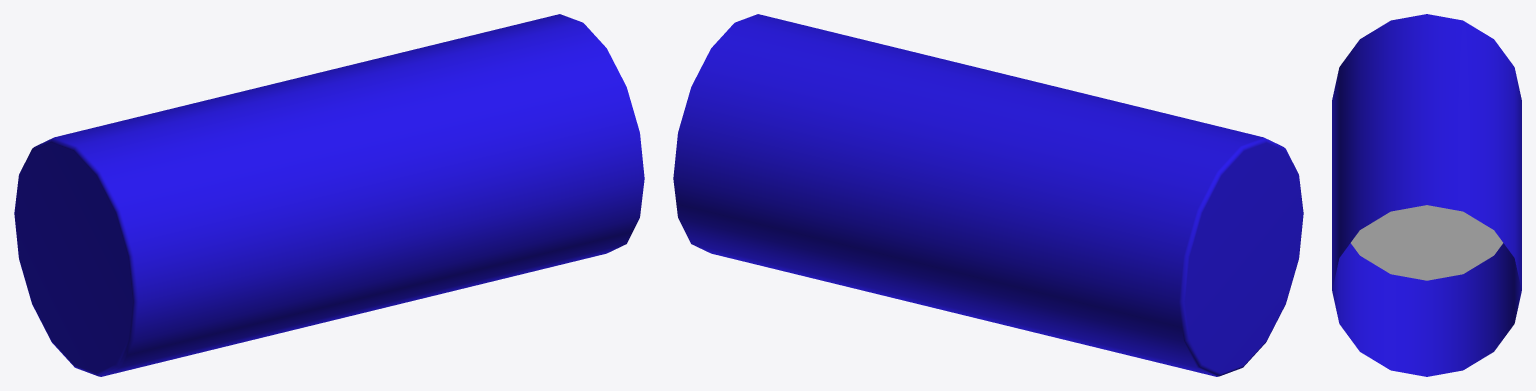
File: Multiplayer.fbx
The picture shows the model from 3 angles, left to right: view 1: azimuth 30°, elevation 25°; view 2: azimuth 150°, elevation 25°; view 3: azimuth 270°, elevation 25°; orthographic projection. The views are drawn at different scales.
Visible parts, largest first — view 1: Multiplayer_piece_01, Multiplayer_piece_02; view 2: Multiplayer_piece_01, Multiplayer_piece_02; view 3: Multiplayer_piece_02, Multiplayer_piece_01.
Part boxes in pixels (x1,y1,x2,y2): Multiplayer_piece_01: [14, 76, 389, 376]; Multiplayer_piece_02: [305, 14, 644, 315]; Multiplayer_piece_01: [928, 76, 1303, 376]; Multiplayer_piece_02: [673, 14, 1012, 315]; Multiplayer_piece_02: [1332, 109, 1521, 376]; Multiplayer_piece_01: [1332, 14, 1521, 280].
Size of the model in its own units: 720 by 300 by 300.
